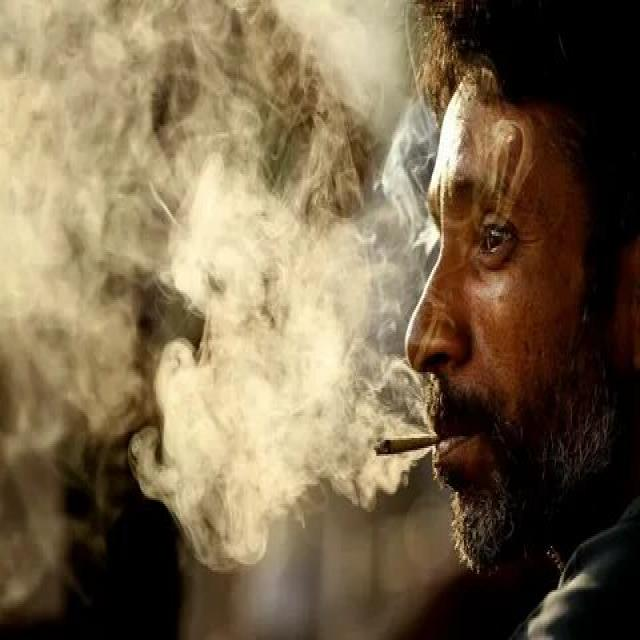smoke: (369, 430, 451, 464)
